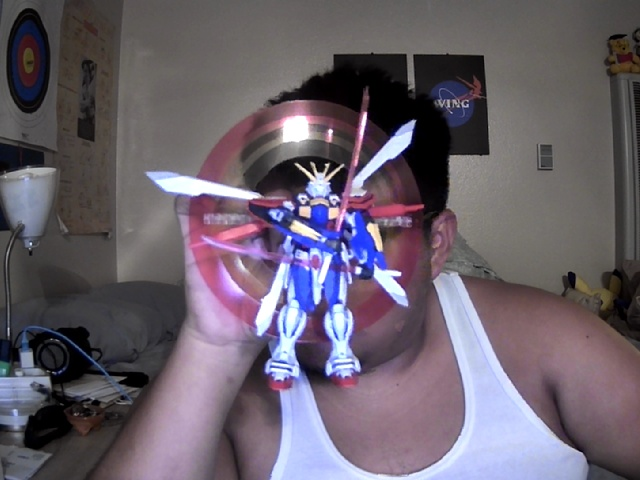God: (142, 98, 424, 393)
